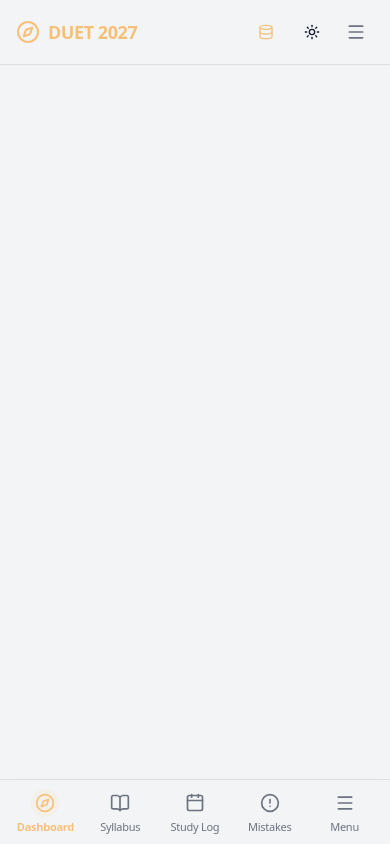
Test: Navbar and Mobile Navigation Component › shows Analytics, Journey, and Mock Tests when opening the mobile menu drawer
This screenshot has width=390, height=844.
Step 1. Click the button with aria-label "Open navigation menu" → (345, 812), box 307,785 -> 382,839
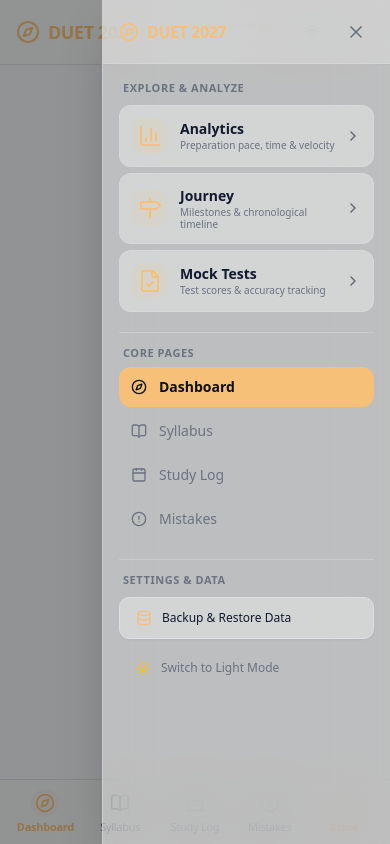
expect the dialog with test id "mobile-menu-drawer" is shown: met
expect the dialog with test id "mobile-menu-drawer" shows "Analytics": met, box 119,104 -> 374,166
expect the dialog with test id "mobile-menu-drawer" shows "Journey": met, box 119,172 -> 374,244
